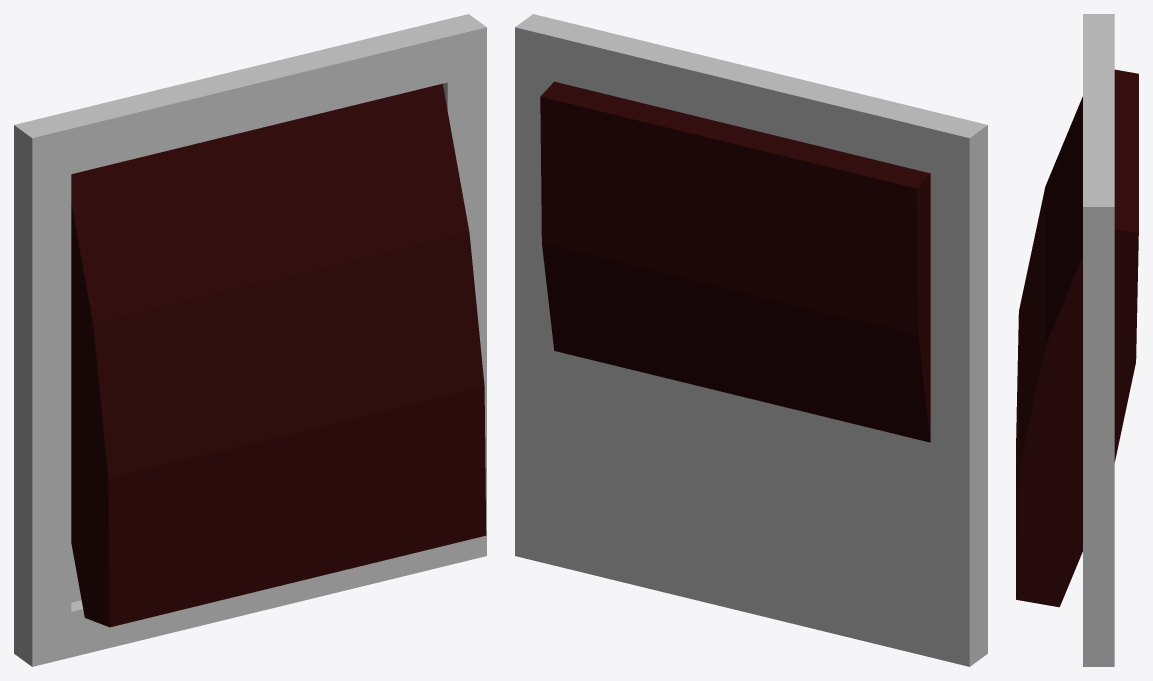
File: LightSwitch.glb
The picture shows the model from 3 angles, left to right: view 1: azimuth 30°, elevation 25°; view 2: azimuth 150°, elevation 25°; view 3: azimuth 270°, elevation 25°; orthographic projection. The views are drawn at different scales.
Parts seen in each view (by area): view 1: Switch, Frame; view 2: Frame, Switch; view 3: Switch, Frame.
Part boxes in pixels (box(x1,y1,x2,y2)): Switch: box(71, 83, 486, 627); Frame: box(14, 14, 486, 666); Frame: box(515, 14, 987, 666); Switch: box(540, 81, 930, 442); Switch: box(1016, 69, 1138, 607); Frame: box(1083, 14, 1114, 666).
Size of the model in its own units: 0.1499 by 0.1666 by 0.0403.
Materials: 2 (2 with a texture image).
